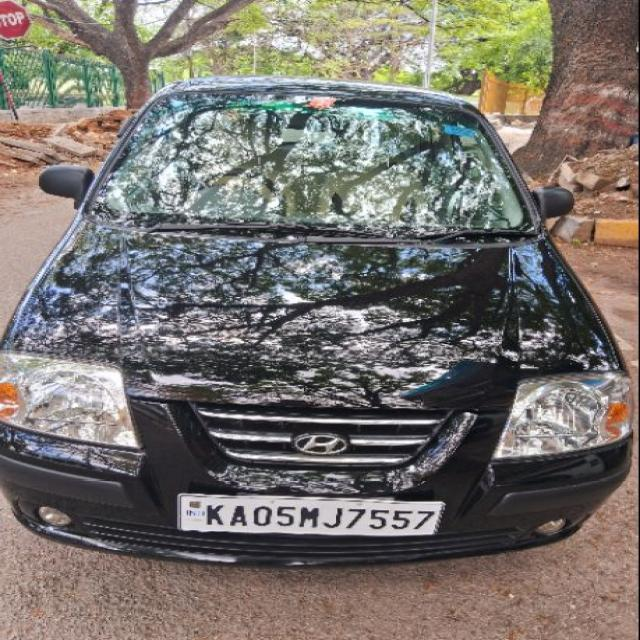license_plate: (174, 492, 446, 538)
